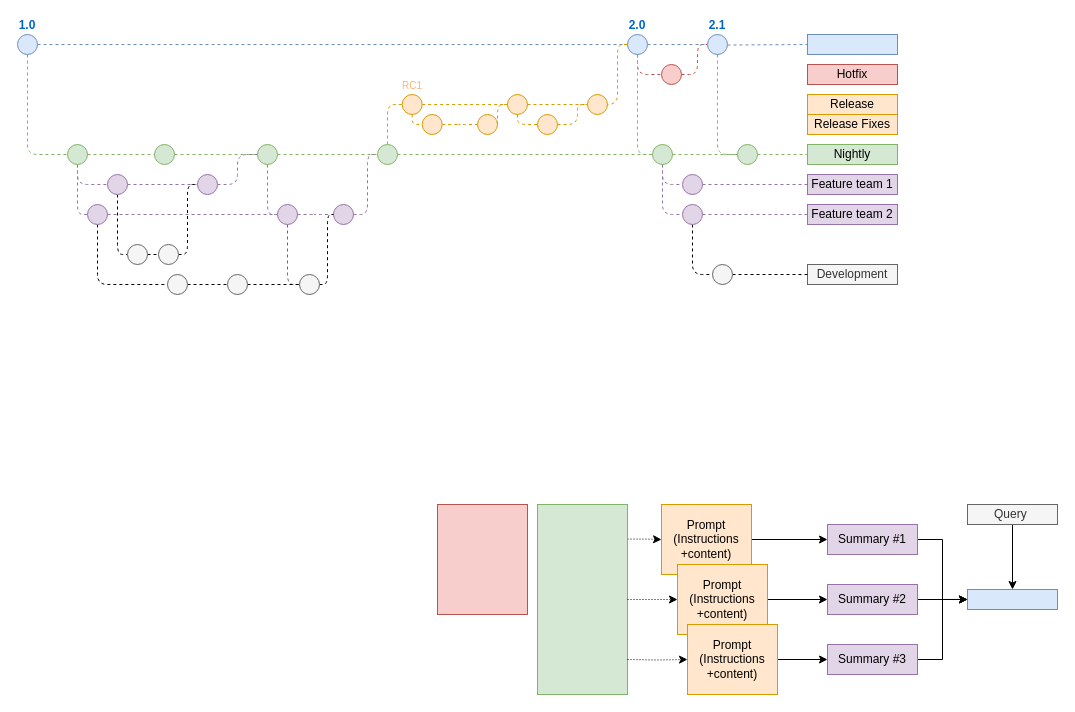
Some shapes in this 1075 by 712 pixel diagram are drawn without their labels. The box of each missing label's shape, as (x1, y1, x2, y2) in pixels:
Final Summary: (966, 588, 1058, 610)
Limits 4K Tokens: (436, 504, 528, 614)
Master: (806, 34, 898, 54)
RC2: (506, 94, 528, 114)
RC3: (586, 94, 608, 114)
Your Contents 4+K Tokens: (536, 504, 628, 694)
